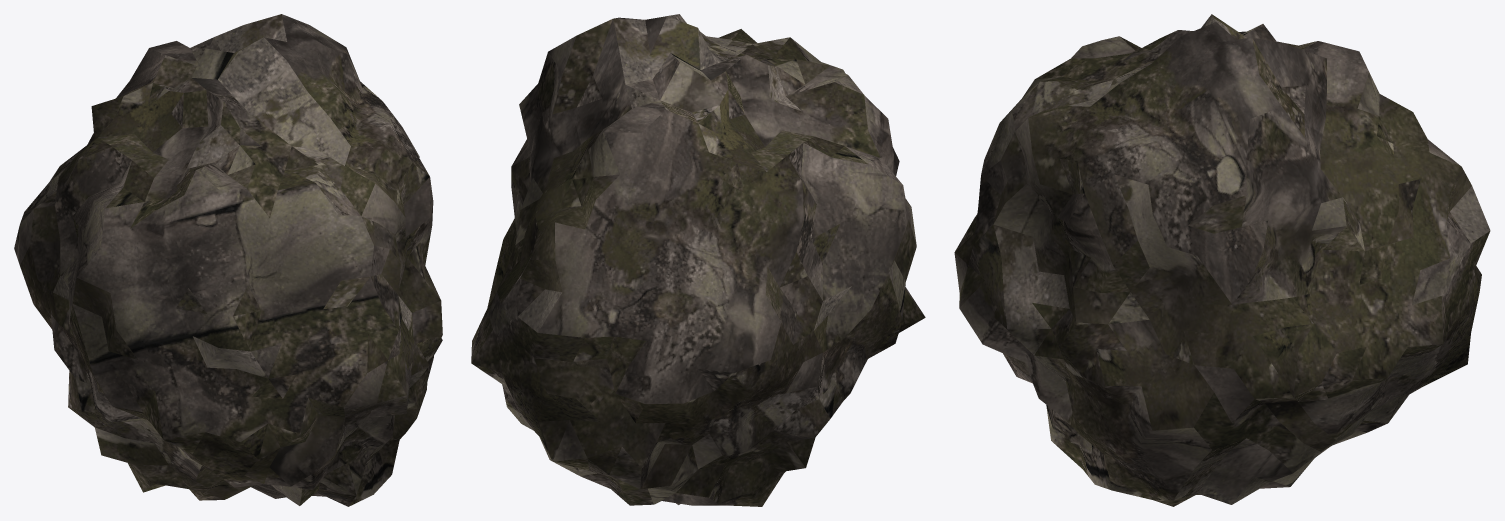
Rendered from asteroid_0.glb.
3 renders of one model, left to right at view 1: azimuth 30°, elevation 25°; view 2: azimuth 150°, elevation 25°; view 3: azimuth 270°, elevation 25°, orthographic. The views are drawn at different scales.
Parts seen in each view (by area): view 1: Asteroid0; view 2: Asteroid0; view 3: Asteroid0.
Part boxes in pixels (<box>): Asteroid0: <box>14,14,442,506</box>; Asteroid0: <box>471,14,925,506</box>; Asteroid0: <box>954,14,1490,506</box>.
Size of the model in its own units: 1.65 by 2 by 2.12.
Materials: 1 (1 with a texture image).
